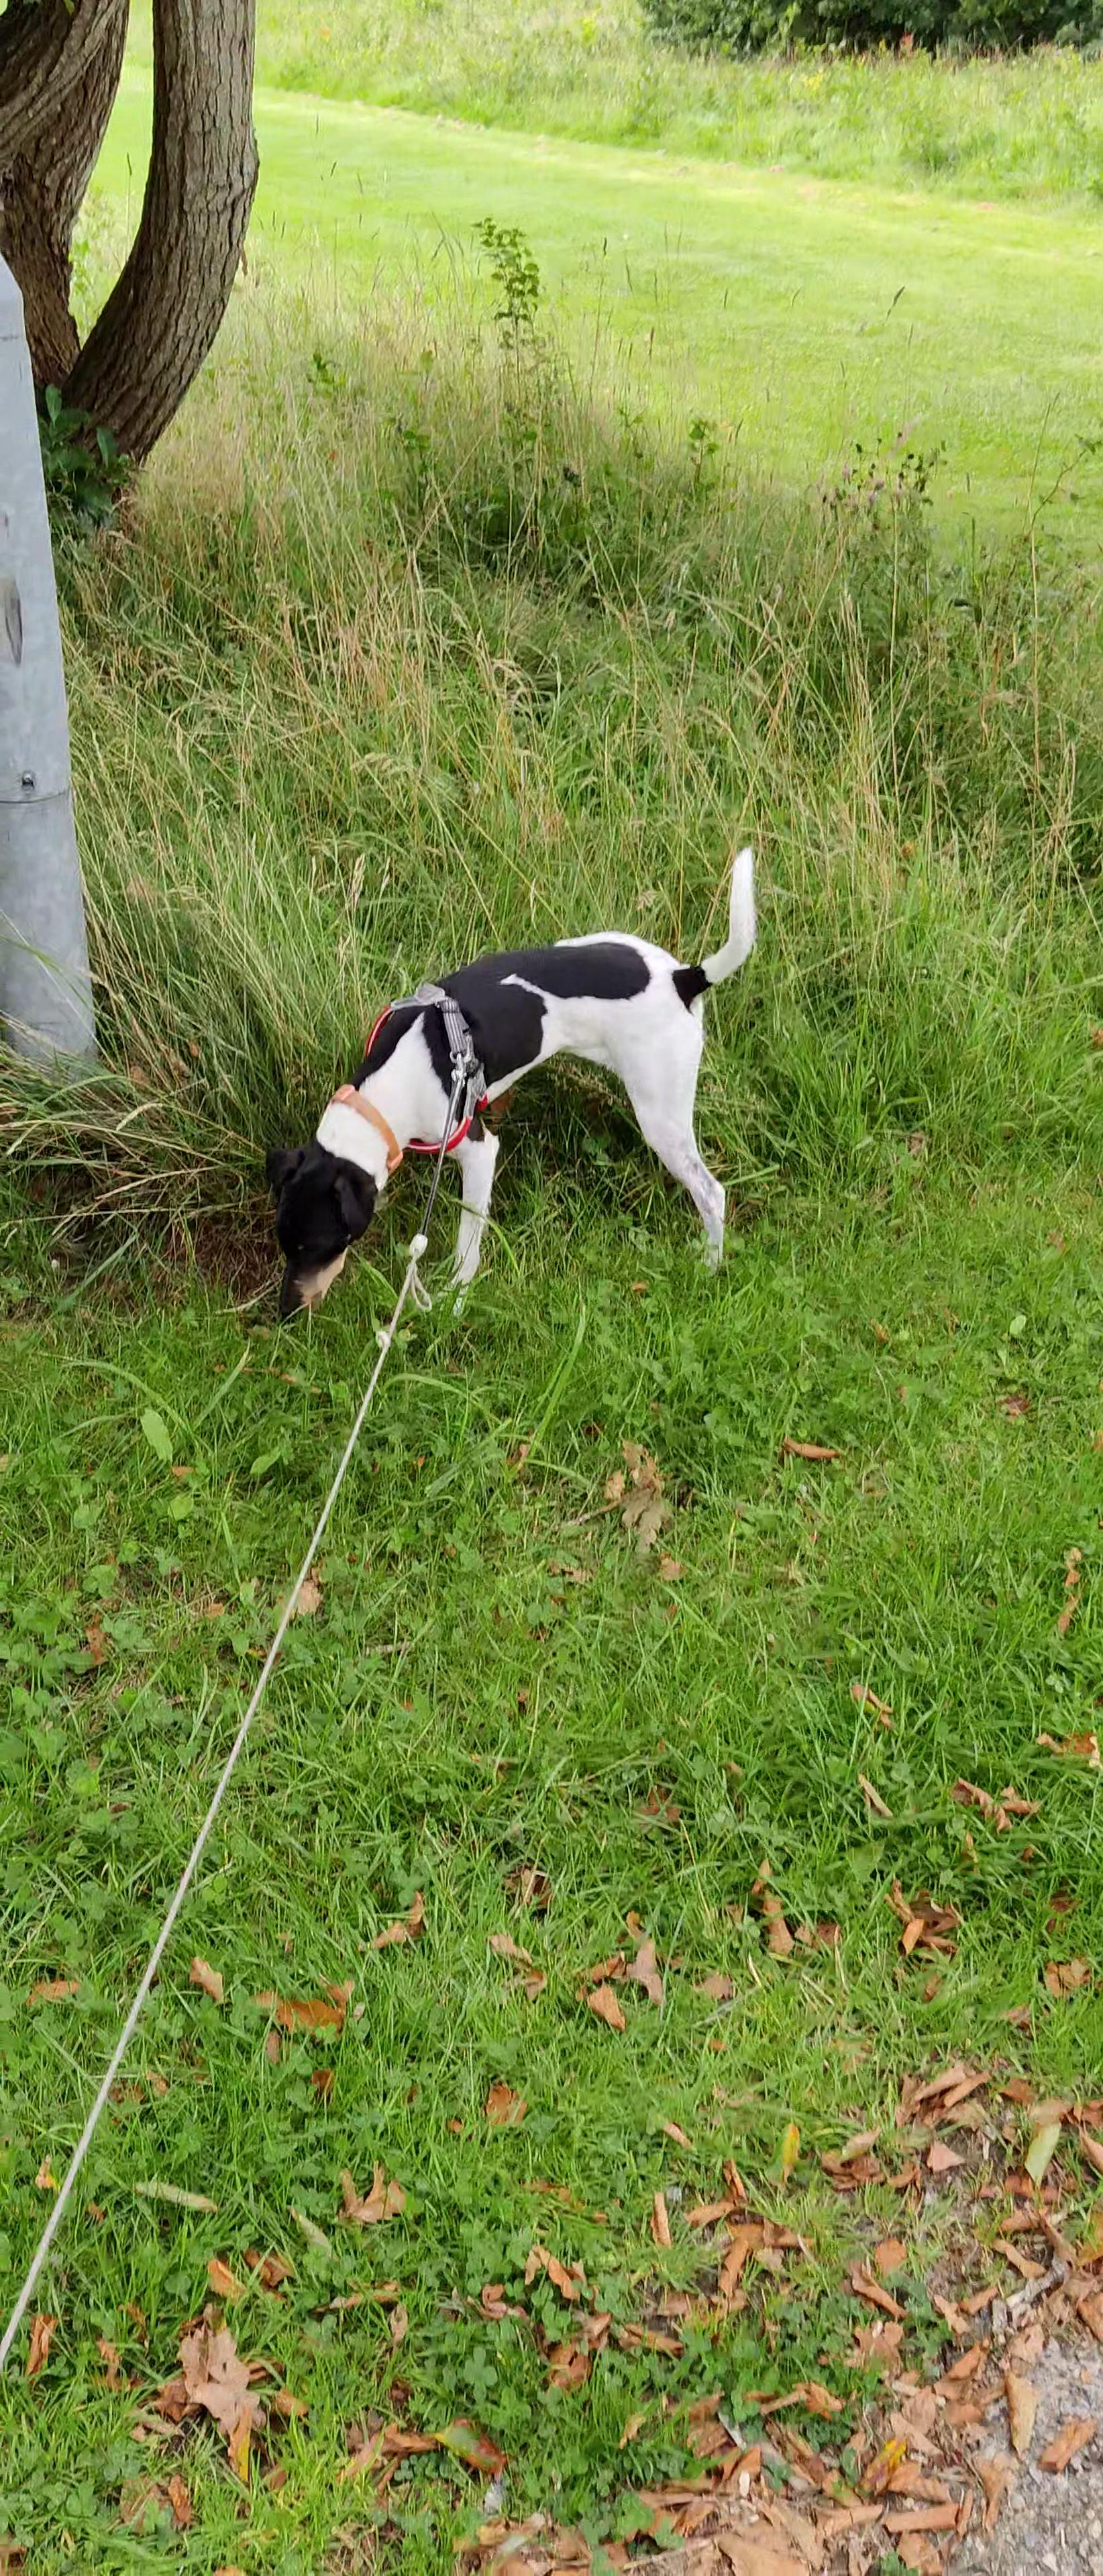Dog: (252, 839, 759, 1326)
